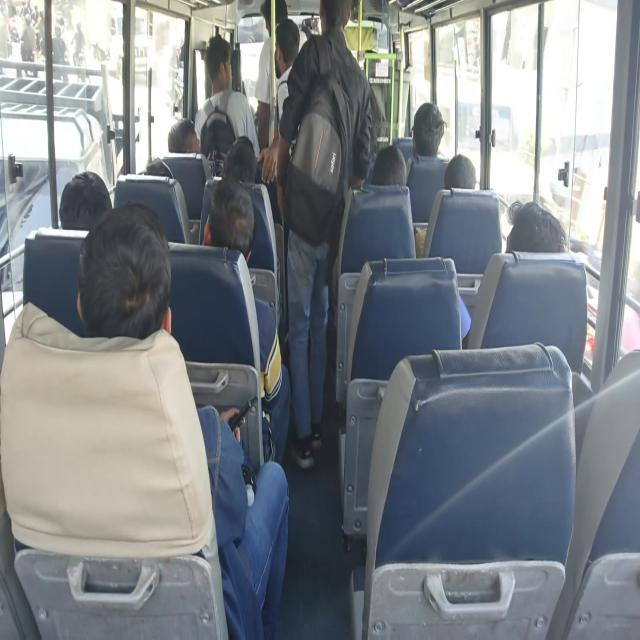person: (76, 200, 290, 638), (276, 0, 372, 469), (202, 178, 291, 466), (459, 200, 569, 348), (257, 19, 300, 222), (194, 34, 260, 162), (254, 0, 287, 152), (505, 200, 569, 253), (59, 169, 112, 230), (410, 102, 448, 159), (371, 145, 406, 186), (167, 117, 200, 153), (444, 153, 476, 190)
